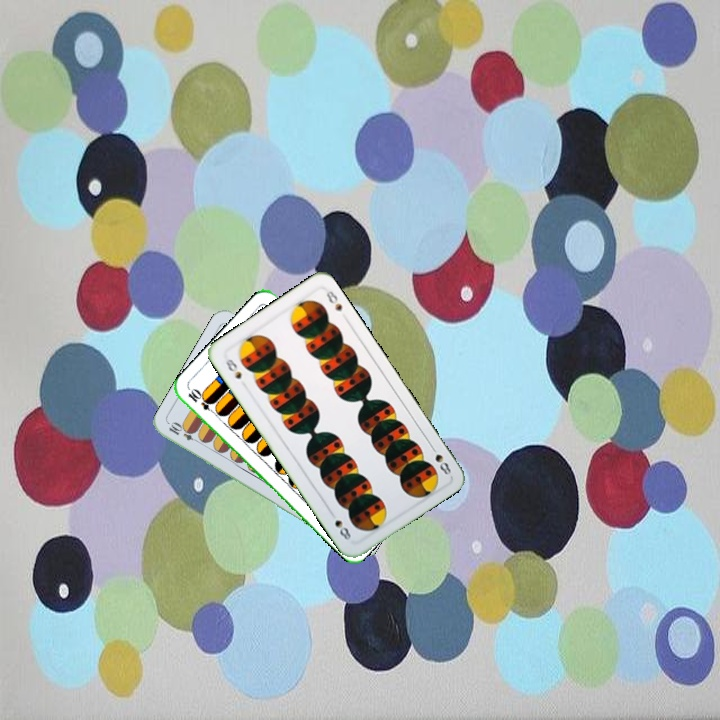E10: (184, 386, 220, 418), (165, 419, 203, 446)
S8: (425, 440, 454, 478), (221, 355, 244, 382)
